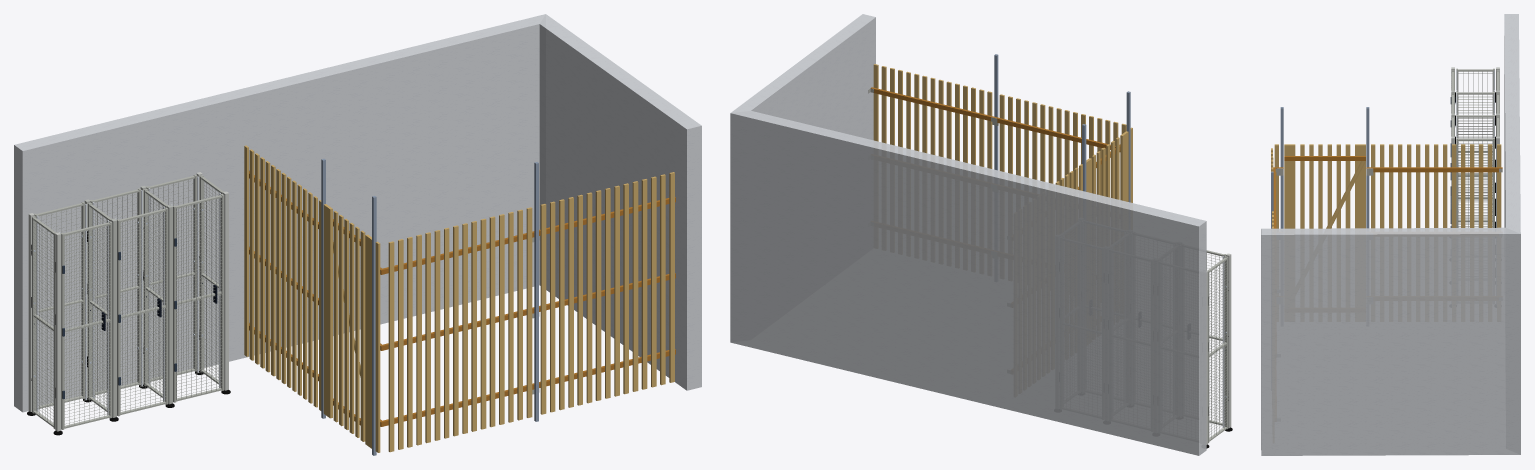
The model's file is ks-studio-2026-05-07-1259.glb.
The picture shows the model from 3 angles, left to right: view 1: azimuth 30°, elevation 25°; view 2: azimuth 150°, elevation 25°; view 3: azimuth 270°, elevation 25°; orthographic projection. The views are drawn at different scales.
Visible parts, largest first — view 1: wall-core-mitered (×2), vertical-slat-1 (×4), vertical-slat-12 (×3), vertical-slat-6 (×3), vertical-slat-11 (×3), vertical-slat-5 (×3), vertical-slat-2 (×3), vertical-slat-7 (×3), vertical-slat-8 (×3), vertical-slat-3 (×3), vertical-slat-4 (×3), vertical-slat-13 (×3) (+21 smaller); view 2: wall-core-mitered (×2), top-crosslat (×2), ks-studio-project-3d, grid-west-vertical-profile-2, post-3N, right-side-stile; view 3: wall-core-mitered (×2), top-crosslat (×2), ks-studio-project-3d, right-side-stile, left-side-stile, vertical-slat-1 (×2), inner-slat-1, vertical-slat-11, vertical-slat-12, vertical-slat-13, vertical-slat-14, inner-slat-4 (+15 smaller).
Part boxes in pixels (x1=…): wall-core-mitered (×2): x1=14, y1=14, x2=701, y2=412; vertical-slat-1 (×4): x1=244, y1=145, x2=546, y2=452; vertical-slat-12 (×3): x1=303, y1=179, x2=647, y2=427; vertical-slat-6 (×3): x1=271, y1=165, x2=592, y2=440; vertical-slat-11 (×3): x1=297, y1=181, x2=638, y2=429; vertical-slat-5 (×3): x1=265, y1=161, x2=582, y2=443; vertical-slat-2 (×3): x1=249, y1=149, x2=555, y2=449; vertical-slat-7 (×3): x1=276, y1=169, x2=601, y2=438; vertical-slat-8 (×3): x1=281, y1=172, x2=610, y2=436; vertical-slat-3 (×3): x1=255, y1=153, x2=564, y2=447; vertical-slat-4 (×3): x1=260, y1=157, x2=573, y2=445; vertical-slat-13 (×3): x1=308, y1=176, x2=656, y2=424; wall-core-mitered (×2): x1=730, y1=14, x2=1206, y2=455; top-crosslat (×2): x1=870, y1=87, x2=1120, y2=151; ks-studio-project-3d: x1=994, y1=54, x2=1130, y2=202; grid-west-vertical-profile-2: x1=1224, y1=256, x2=1228, y2=429; post-3N: x1=1226, y1=253, x2=1231, y2=428; right-side-stile: x1=1120, y1=131, x2=1128, y2=201; wall-core-mitered (×2): x1=1261, y1=14, x2=1520, y2=455; top-crosslat (×2): x1=1284, y1=156, x2=1502, y2=172; ks-studio-project-3d: x1=1271, y1=107, x2=1369, y2=228; right-side-stile: x1=1284, y1=144, x2=1295, y2=228; left-side-stile: x1=1355, y1=144, x2=1365, y2=228; vertical-slat-1 (×2): x1=1274, y1=144, x2=1501, y2=228; inner-slat-1: x1=1345, y1=144, x2=1350, y2=228; vertical-slat-11: x1=1407, y1=144, x2=1411, y2=228; vertical-slat-12: x1=1398, y1=144, x2=1402, y2=228; vertical-slat-13: x1=1389, y1=144, x2=1393, y2=228; vertical-slat-14: x1=1380, y1=144, x2=1384, y2=228; inner-slat-4: x1=1318, y1=144, x2=1322, y2=228.
Bounding box in the file's own units: 5360 × 2500 × 2662.
21 materials, 1 textured.
